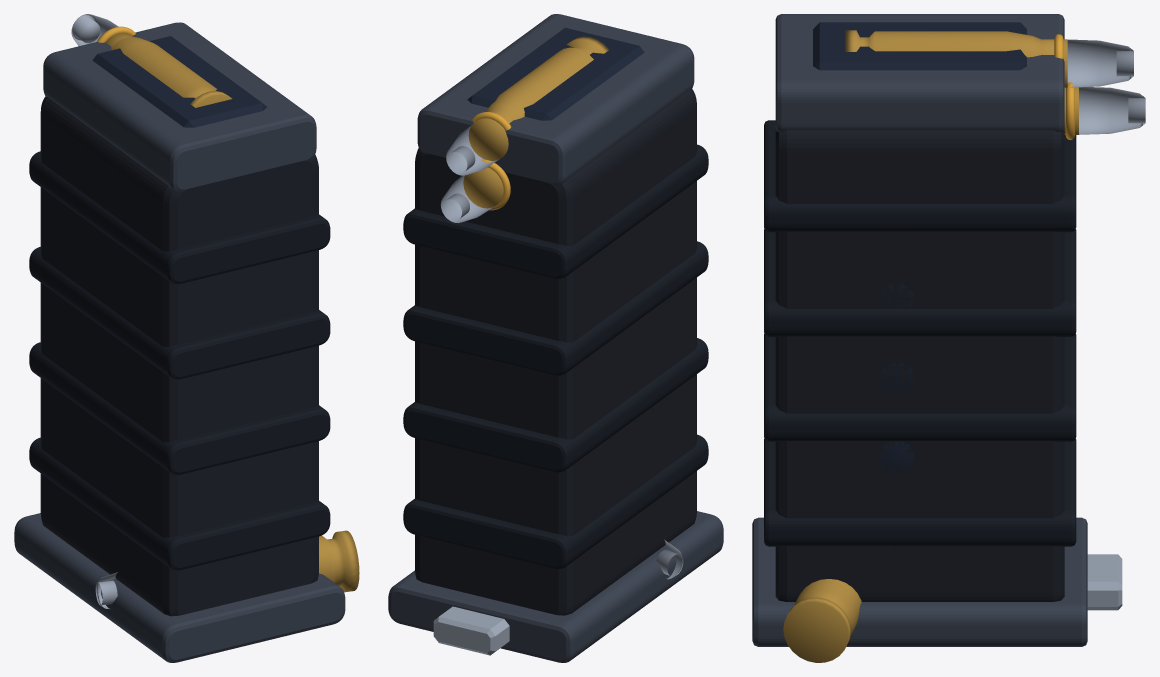
Rendered from ammo_hollowpoint.glb.
3 views of the same model, side by side, from view 1: azimuth 30°, elevation 25°; view 2: azimuth 150°, elevation 25°; view 3: azimuth 270°, elevation 25° (orthographic). The views are drawn at different scales.
Parts seen in each view (by area): view 1: ammo_hollowpoint_mag, ammo_hollowpoint_lips, ammo_hollowpoint_base, ammo_hollowpoint_rib0, ammo_hollowpoint_rib2, ammo_hollowpoint_rib3, ammo_hollowpoint_rib1, ammo_hollowpoint_lip_cut, ammo_hollowpoint_top_case, ammo_hollowpoint_loose_case, ammo_hollowpoint_top_tip, ammo_hollowpoint_loose_tip; view 2: ammo_hollowpoint_mag, ammo_hollowpoint_lips, ammo_hollowpoint_base, ammo_hollowpoint_rib2, ammo_hollowpoint_rib1, ammo_hollowpoint_rib0, ammo_hollowpoint_rib3, ammo_hollowpoint_lip_cut, ammo_hollowpoint_top_case, ammo_hollowpoint_base_tab, ammo_hollowpoint_second_case, ammo_hollowpoint_second_tip (+2 smaller); view 3: ammo_hollowpoint_mag, ammo_hollowpoint_lips, ammo_hollowpoint_base, ammo_hollowpoint_rib0, ammo_hollowpoint_rib1, ammo_hollowpoint_rib2, ammo_hollowpoint_rib3, ammo_hollowpoint_lip_cut, ammo_hollowpoint_loose_case, ammo_hollowpoint_top_case, ammo_hollowpoint_second_tip, ammo_hollowpoint_top_tip (+3 smaller).
Part boxes in pixels (x1,y1,x2,y2): ammo_hollowpoint_mag: [40, 96, 318, 616]; ammo_hollowpoint_lips: [43, 22, 316, 191]; ammo_hollowpoint_base: [14, 513, 345, 662]; ammo_hollowpoint_rib0: [29, 437, 330, 570]; ammo_hollowpoint_rib2: [29, 247, 330, 379]; ammo_hollowpoint_rib3: [29, 151, 330, 283]; ammo_hollowpoint_rib1: [29, 342, 330, 474]; ammo_hollowpoint_lip_cut: [92, 36, 266, 127]; ammo_hollowpoint_top_case: [98, 32, 232, 107]; ammo_hollowpoint_loose_case: [319, 530, 359, 592]; ammo_hollowpoint_top_tip: [71, 14, 118, 45]; ammo_hollowpoint_loose_tip: [95, 572, 117, 609]; ammo_hollowpoint_mag: [415, 89, 696, 615]; ammo_hollowpoint_lips: [417, 14, 694, 185]; ammo_hollowpoint_base: [388, 511, 723, 662]; ammo_hollowpoint_rib2: [403, 241, 708, 375]; ammo_hollowpoint_rib1: [403, 338, 708, 472]; ammo_hollowpoint_rib0: [403, 434, 708, 569]; ammo_hollowpoint_rib3: [403, 144, 708, 278]; ammo_hollowpoint_lip_cut: [467, 27, 644, 120]; ammo_hollowpoint_top_case: [468, 36, 608, 160]; ammo_hollowpoint_base_tab: [433, 606, 509, 655]; ammo_hollowpoint_second_case: [463, 167, 503, 208]; ammo_hollowpoint_second_tip: [440, 175, 494, 222]; ammo_hollowpoint_mag: [775, 129, 1064, 601]; ammo_hollowpoint_lips: [775, 14, 1064, 131]; ammo_hollowpoint_base: [752, 517, 1087, 646]; ammo_hollowpoint_rib0: [764, 438, 1076, 546]; ammo_hollowpoint_rib1: [764, 334, 1076, 441]; ammo_hollowpoint_rib2: [764, 229, 1076, 336]; ammo_hollowpoint_rib3: [764, 120, 1076, 232]; ammo_hollowpoint_lip_cut: [813, 22, 1026, 70]; ammo_hollowpoint_loose_case: [783, 579, 861, 662]; ammo_hollowpoint_top_case: [845, 30, 1067, 87]; ammo_hollowpoint_second_tip: [1079, 87, 1145, 134]; ammo_hollowpoint_top_tip: [1067, 39, 1133, 87].
Size of the model in its own units: 0.0505 by 0.1088 by 0.068.
